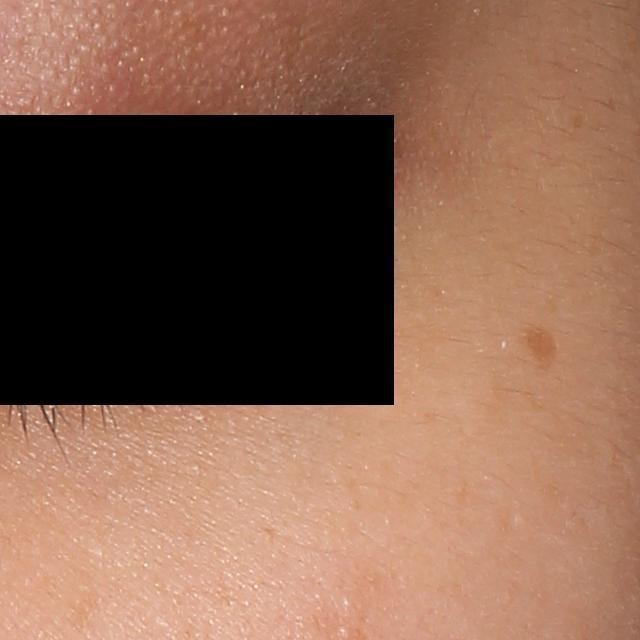comedo: (334, 620, 354, 636)
melasma: (523, 322, 560, 375)
